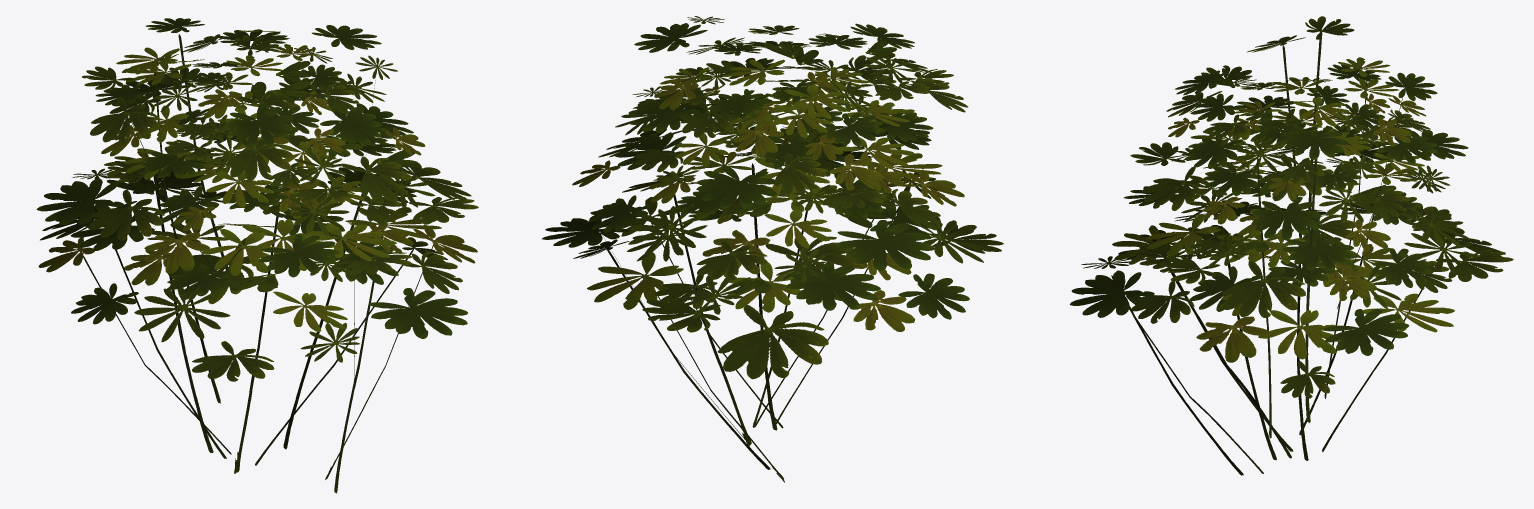
Rendered from arden_forest_lupin_04_foliage.fbx.
3 views of the same model, side by side, from view 1: azimuth 30°, elevation 25°; view 2: azimuth 150°, elevation 25°; view 3: azimuth 270°, elevation 25° (orthographic). The views are drawn at different scales.
Visible parts, largest first — view 1: arden_forest_lupin_04_foliage; view 2: arden_forest_lupin_04_foliage; view 3: arden_forest_lupin_04_foliage.
Boxes of the visible parts, x1,y1,x2,y2 form: arden_forest_lupin_04_foliage: (36, 18, 478, 493); arden_forest_lupin_04_foliage: (542, 16, 1003, 482); arden_forest_lupin_04_foliage: (1070, 16, 1513, 475).
Size of the model in its own units: 105 by 105 by 115.
